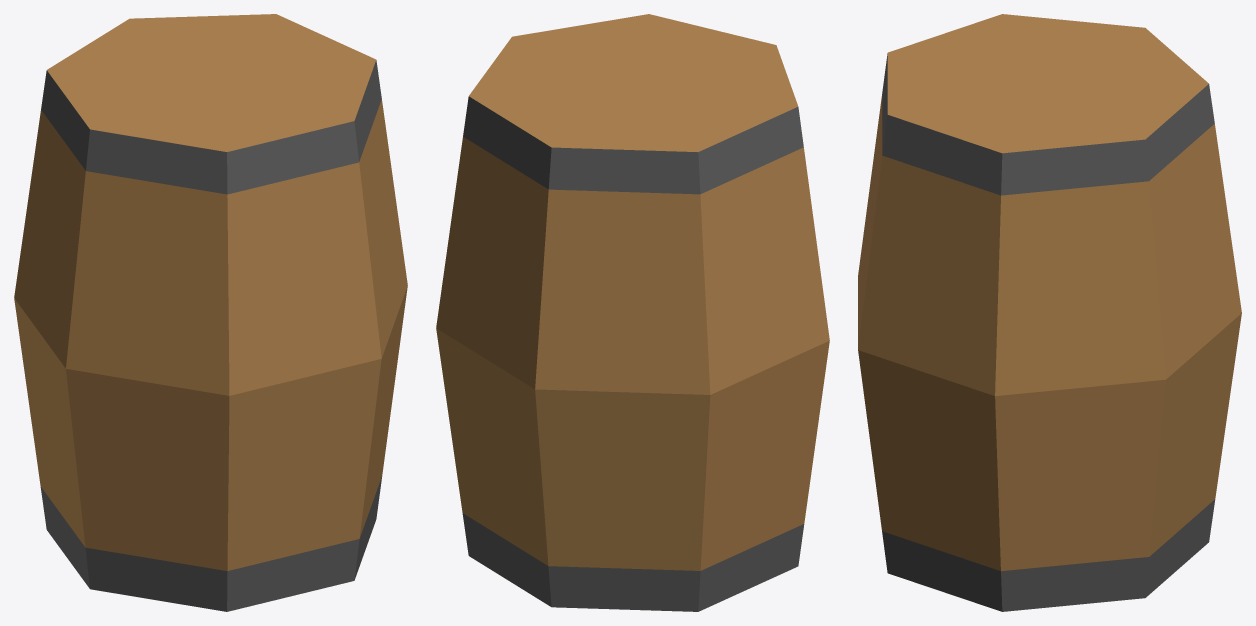
Rendered from BARREL.fbx.
3 renders of one model, left to right at view 1: azimuth 30°, elevation 25°; view 2: azimuth 150°, elevation 25°; view 3: azimuth 270°, elevation 25°, orthographic.
Parts seen in each view (by area): view 1: Cylinder; view 2: Cylinder; view 3: Cylinder.
Part boxes in pixels (bbox=[...]): Cylinder: bbox=[14, 14, 407, 611]; Cylinder: bbox=[436, 14, 829, 611]; Cylinder: bbox=[858, 14, 1241, 611].
Size of the model in its own units: 78.27 by 101 by 76.31.
